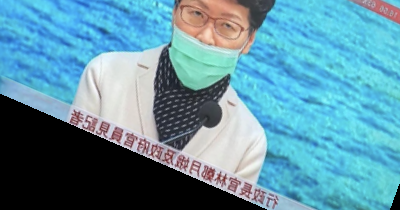mask_weared_incorrect: (157, 1, 277, 94)
